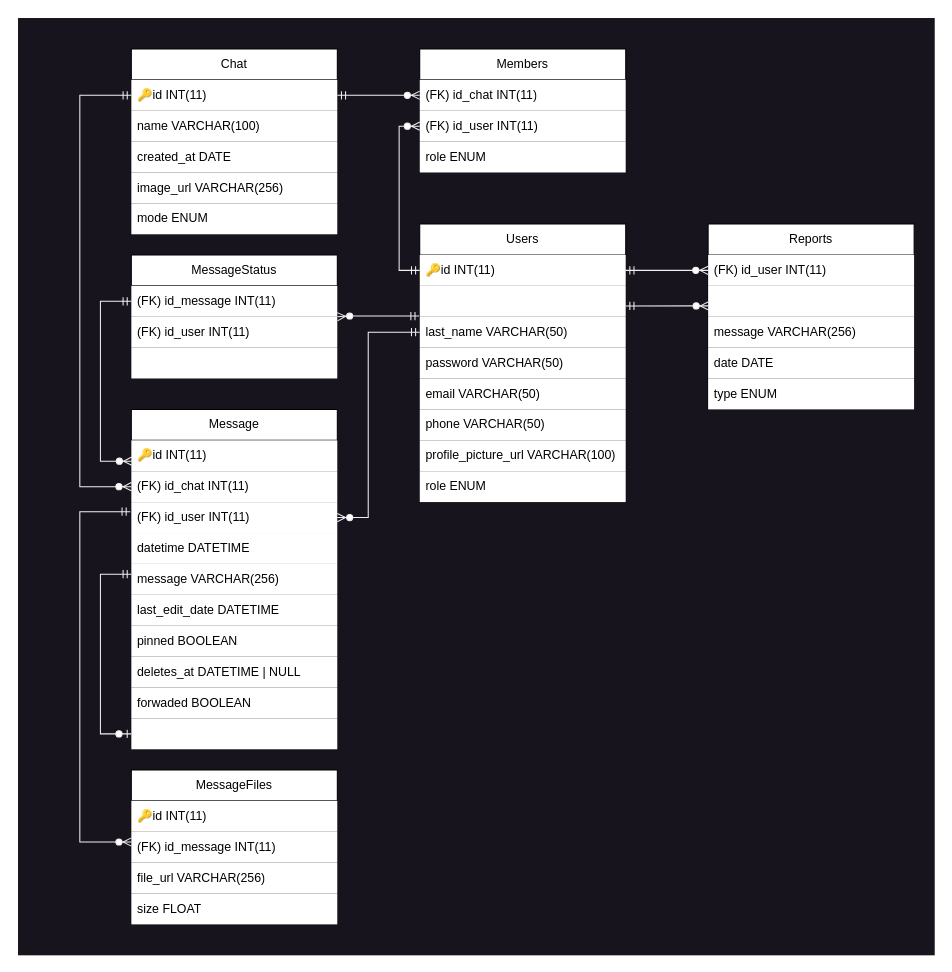
Some shapes in this 952 by 972 pixel diagram are drawn without their labels. The shapes that lost their labels are listed below. From the top down, each one's centre as x and y in pixels, then its label:
At (x=522, y=300): "name VARCHAR(50)".
At (x=811, y=300): "(FK) id_reporter INT(11)".
At (x=234, y=362): "status ENUM".
At (x=234, y=733): "(FK) responding_to INT | NULL".
